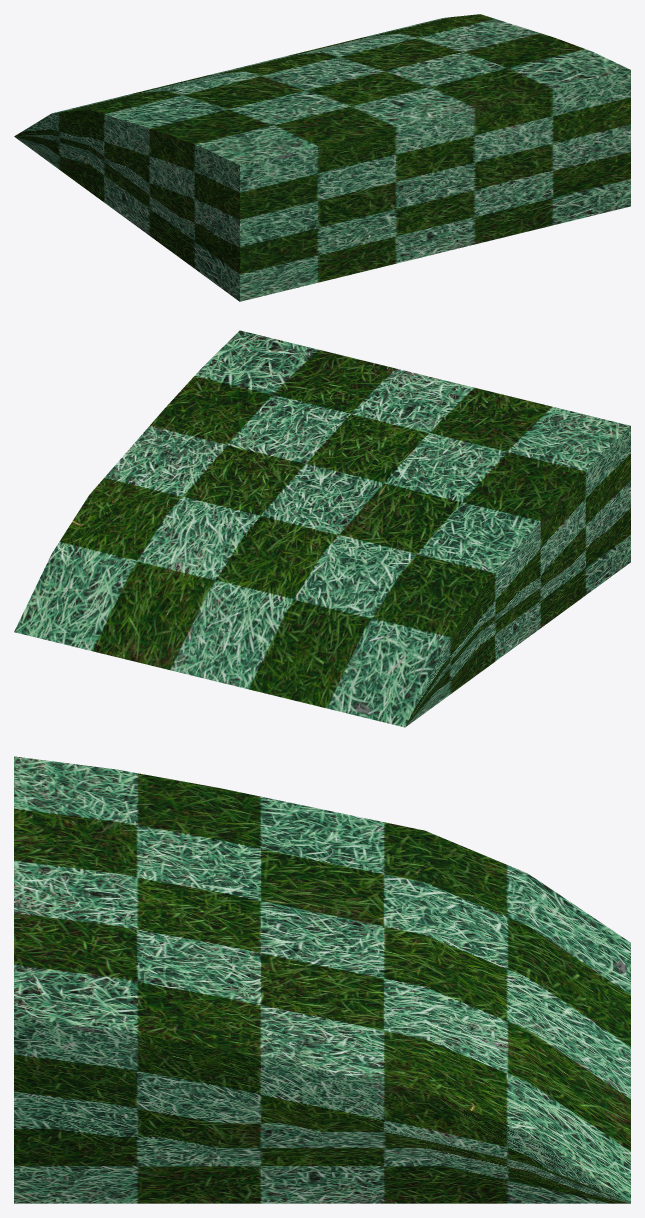
The model's file is Floor10RampDownSrp.fbx.
3 views of the same model, one above another, from view 1: azimuth 30°, elevation 25°; view 2: azimuth 150°, elevation 25°; view 3: azimuth 270°, elevation 25° (orthographic). The views are drawn at different scales.
Visible parts, largest first — view 1: Floor.010RampDownSrp; view 2: Floor.010RampDownSrp; view 3: Floor.010RampDownSrp.
Boxes of the visible parts, x1,y1,x2,y2 form: Floor.010RampDownSrp: [14, 14, 630, 301]; Floor.010RampDownSrp: [14, 330, 630, 727]; Floor.010RampDownSrp: [14, 756, 630, 1203].
Bounding box in the file's own units: 150 × 50 × 150.
